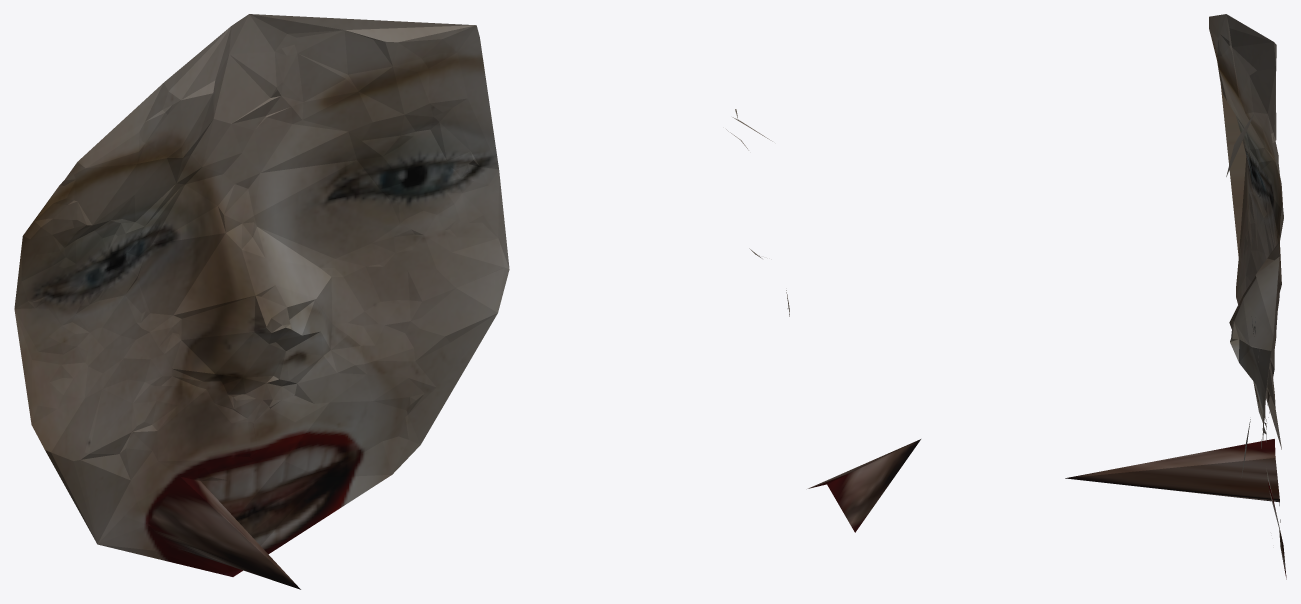
File: smoothed_output.glb
3 renders of one model, left to right at view 1: azimuth 30°, elevation 25°; view 2: azimuth 150°, elevation 25°; view 3: azimuth 270°, elevation 25°, orthographic. The views are drawn at different scales.
Visible parts, largest first — view 1: world; view 2: world; view 3: world.
Boxes of the visible parts, left/top/right/bottom form: world: left=14, top=14, right=509, bottom=589; world: left=726, top=109, right=920, bottom=532; world: left=1065, top=14, right=1286, bottom=579.
Bounding box in the file's own units: 0.1251 × 0.1345 × 0.0501.
Materials: 1 (1 with a texture image).
